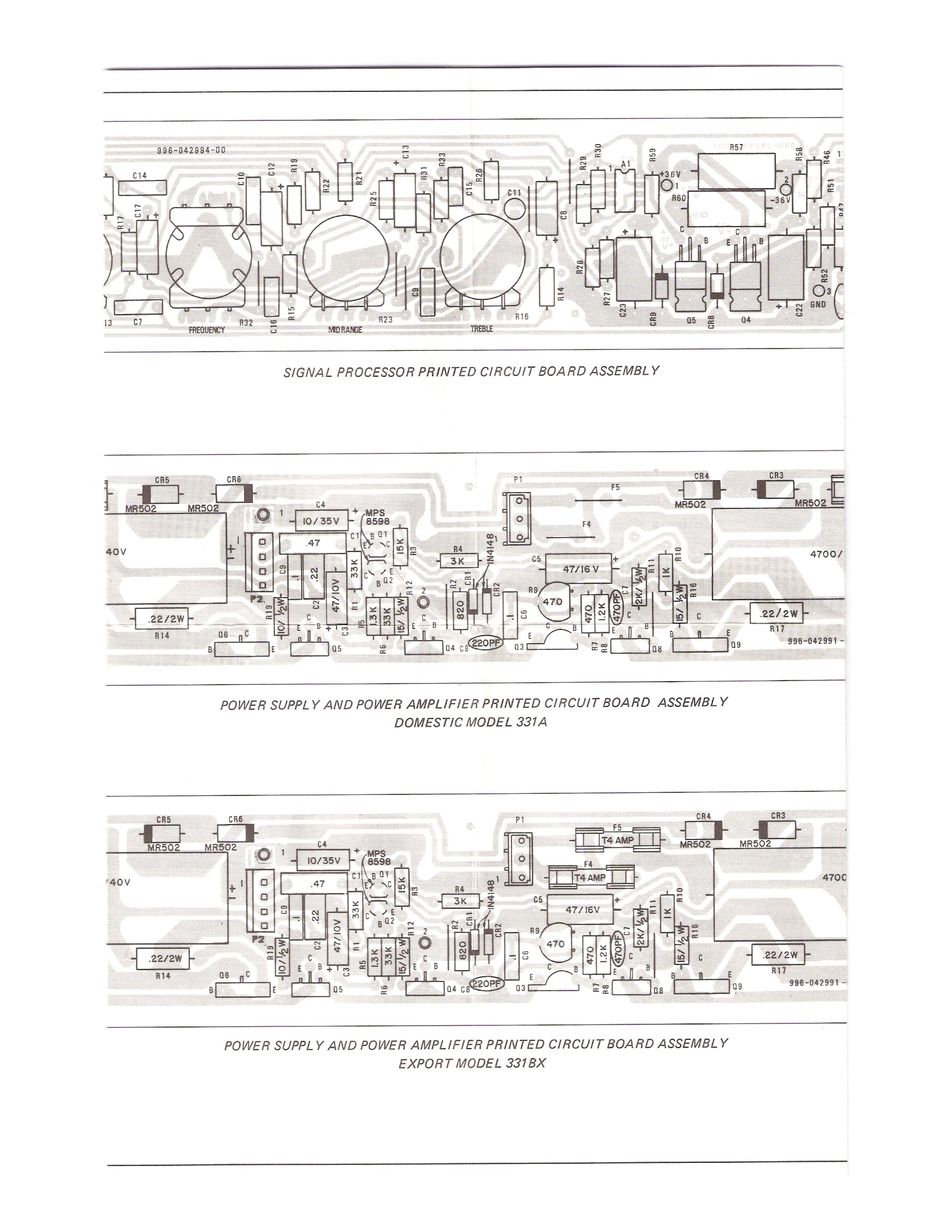A1: (620, 159, 631, 168)
C1: (351, 872, 361, 880), (349, 532, 360, 539)
C10: (237, 171, 245, 187)
C11: (507, 188, 522, 197)
C12: (267, 161, 276, 178)
C13: (401, 144, 410, 160)
C14: (132, 170, 148, 180)
C15: (465, 182, 473, 198)
C16: (270, 319, 278, 334)
C17: (134, 203, 141, 218)
C2: (311, 600, 321, 610), (313, 941, 322, 950)
C22: (794, 302, 803, 318)
C23: (618, 303, 627, 318)
C3: (341, 626, 349, 636), (343, 967, 351, 977)
C4: (316, 840, 329, 849), (316, 500, 326, 509)
C5: (531, 554, 542, 563), (533, 895, 543, 903)
C6: (522, 949, 529, 962), (519, 610, 528, 620)
C7: (132, 318, 143, 327), (621, 584, 629, 595), (623, 926, 631, 936)
C8: (459, 985, 471, 995), (559, 209, 567, 221), (459, 644, 469, 653)
C9: (278, 564, 287, 575), (279, 905, 288, 916), (411, 287, 419, 297)
CR10: (463, 571, 472, 586), (465, 911, 474, 926)
CR2: (493, 581, 501, 597), (494, 922, 502, 938)
CR3: (769, 471, 784, 480), (770, 812, 787, 819)
CR4: (694, 472, 710, 480), (696, 812, 712, 820)
CR5: (154, 475, 171, 484), (155, 815, 173, 823)
CR6: (227, 815, 245, 823), (227, 475, 241, 483)
CR8: (707, 314, 715, 330)
CR9: (648, 311, 657, 327)
F4: (582, 520, 592, 528), (583, 860, 593, 868)
F5: (610, 482, 621, 491), (612, 823, 622, 832), (613, 823, 622, 831)
MR502: (793, 498, 829, 508), (203, 842, 239, 852), (187, 503, 219, 513), (124, 504, 157, 513), (679, 840, 712, 849), (674, 500, 706, 509), (146, 844, 181, 852), (739, 840, 773, 848)
P1: (513, 475, 523, 484), (516, 816, 525, 825)
Q1: (380, 870, 388, 879)
Q2: (383, 576, 393, 584), (385, 917, 395, 925)
Q3_4: (513, 642, 524, 651), (515, 984, 526, 992)
Q4: (740, 316, 752, 325), (447, 985, 456, 995), (445, 644, 456, 652)
Q5: (332, 984, 343, 994), (331, 644, 343, 653), (686, 316, 697, 325)
Q6: (217, 971, 230, 979), (217, 631, 229, 638)
Q8: (651, 644, 663, 653), (653, 987, 664, 996)
Q9: (731, 640, 741, 651), (731, 983, 744, 991)
R1: (352, 940, 360, 953), (351, 601, 358, 611)
R10: (675, 886, 685, 903), (675, 546, 683, 563)
R11: (649, 899, 657, 915), (648, 558, 655, 575)
R12: (405, 580, 414, 596), (407, 920, 415, 936)
R14: (154, 631, 171, 640), (557, 286, 566, 302), (155, 972, 171, 980)
R15: (287, 305, 296, 322)
R16: (691, 923, 700, 940), (514, 312, 529, 321), (690, 583, 697, 599)
R17: (769, 624, 785, 633), (771, 966, 787, 975), (116, 214, 124, 230)
R19: (289, 157, 299, 174), (265, 604, 273, 621), (266, 945, 274, 962)
R2: (450, 919, 459, 931), (449, 578, 458, 589)
R21: (354, 170, 364, 186)
R22: (322, 178, 330, 194)
R23: (378, 316, 393, 324)
R25: (369, 190, 378, 208)
R26: (474, 166, 484, 184)
R27: (602, 292, 611, 307)
R28: (576, 259, 583, 275)
R29: (579, 155, 587, 171)
R3: (409, 545, 417, 557), (411, 886, 418, 897)
R30: (594, 142, 602, 158)
R31: (420, 165, 428, 182)
R32: (238, 318, 253, 327)
R33: (438, 151, 446, 167)
R4: (453, 885, 464, 893), (453, 544, 462, 553)
R46: (823, 149, 830, 164)
R5: (358, 960, 367, 970), (358, 619, 365, 629)
R51: (826, 178, 836, 193)
R52: (820, 268, 829, 283)
R57: (729, 143, 743, 151)
R58: (795, 147, 803, 162)
R59: (649, 147, 657, 164)
R6: (379, 984, 388, 997), (378, 644, 387, 655)
R60: (671, 193, 687, 203)
R7: (590, 640, 599, 651), (592, 982, 600, 993)
R8: (601, 983, 609, 996), (601, 643, 608, 653)
R9: (528, 585, 538, 594), (530, 926, 540, 935)
